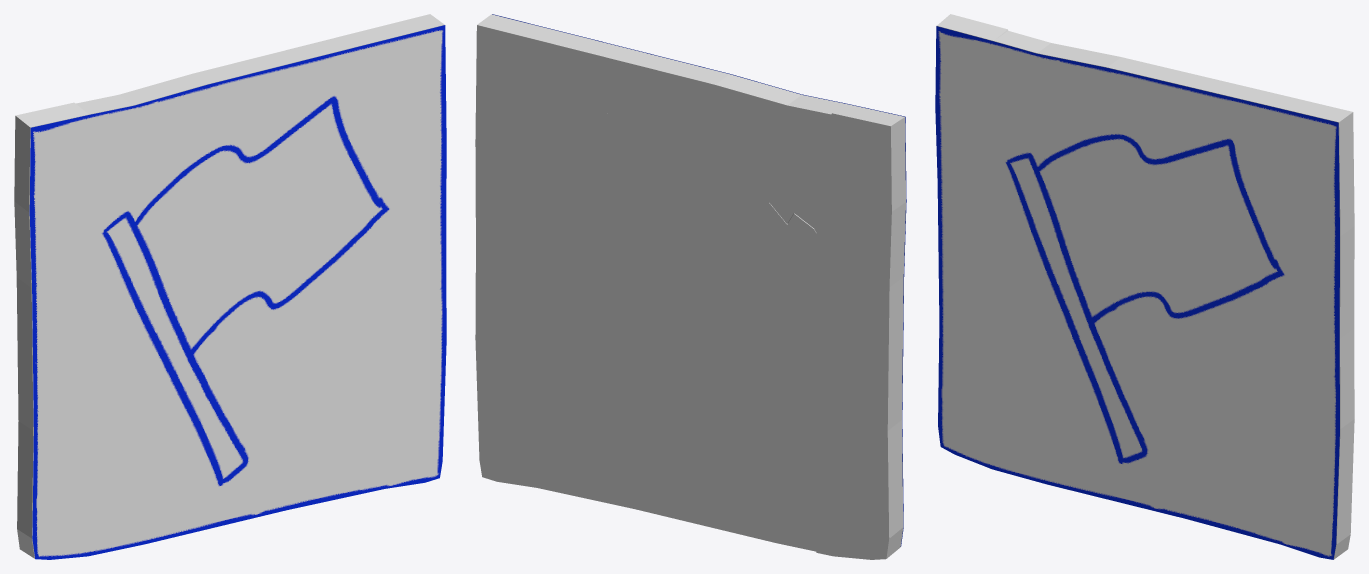
The model's file is 11_All_Pop-Up_book.fbx.
The picture shows the model from 3 angles, left to right: view 1: azimuth 30°, elevation 25°; view 2: azimuth 150°, elevation 25°; view 3: azimuth 330°, elevation 25°; orthographic projection. The views are drawn at different scales.
Visible parts, largest first — view 1: Out_3_0, Out_1_0, In_1_0, Out_2_0, Out_4_0, Out_1_1, In_2_0, Out_4_1; view 2: Out_1_1, Out_3_1, In_1_1, Out_4_1, Out_2_1, In_2_1, Out_1_0; view 3: Out_3_0, Out_1_0, In_1_0, Out_2_0, Out_4_0, In_2_0, Out_3_1, Out_4_1, Out_1_1.
Part boxes in pixels (x1,y1,x2,y2): Out_3_0: (190, 25, 446, 477); Out_1_0: (29, 115, 193, 559); In_1_0: (134, 100, 384, 353); Out_2_0: (105, 394, 439, 552); Out_4_0: (89, 25, 444, 202); Out_1_1: (14, 102, 88, 558); In_2_0: (104, 214, 245, 482); Out_4_1: (76, 14, 444, 114); Out_1_1: (727, 104, 905, 559); Out_3_1: (475, 25, 731, 476); In_1_1: (537, 100, 787, 352); Out_4_1: (477, 14, 845, 201); Out_2_1: (482, 393, 815, 551); In_2_1: (675, 213, 816, 481); Out_1_0: (847, 103, 906, 546); Out_3_0: (1091, 122, 1339, 559); Out_1_0: (935, 26, 1094, 473); In_1_0: (1037, 136, 1279, 320); Out_2_0: (1008, 384, 1333, 559); Out_4_0: (993, 41, 1337, 190); In_2_0: (1008, 156, 1145, 461); Out_3_1: (1333, 112, 1354, 559); Out_4_1: (994, 31, 1352, 122); Out_1_1: (937, 14, 1008, 41).
Size of the model in its own units: 8.26 by 8.57 by 0.515.
Materials: 7 (1 with a texture image).
